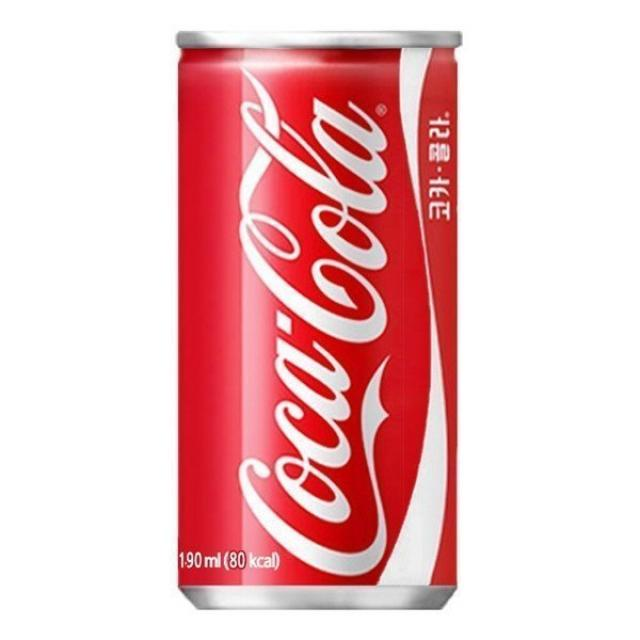coca-cola: (173, 21, 467, 619)
